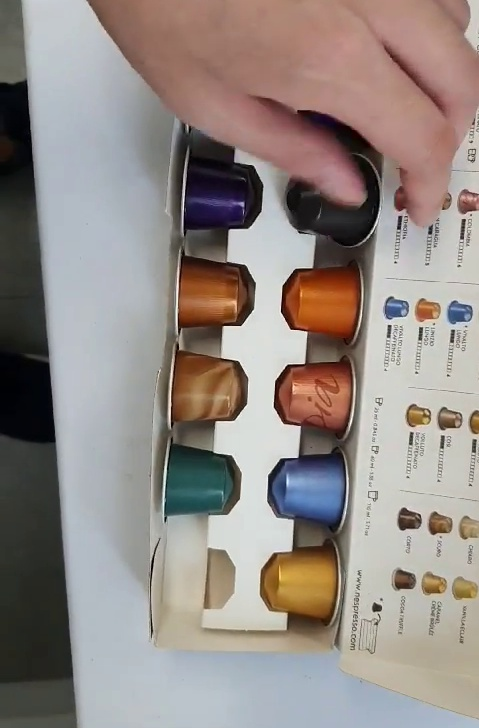capsule_4: (285, 150, 382, 252)
